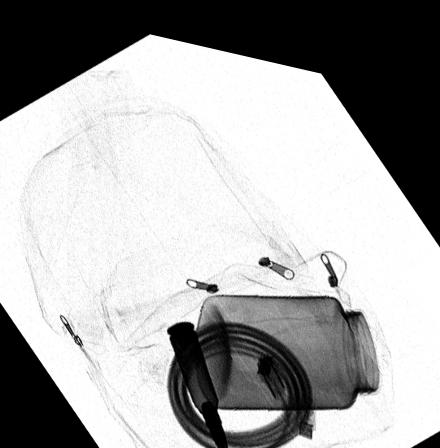Bullet: (164, 311, 228, 448)
